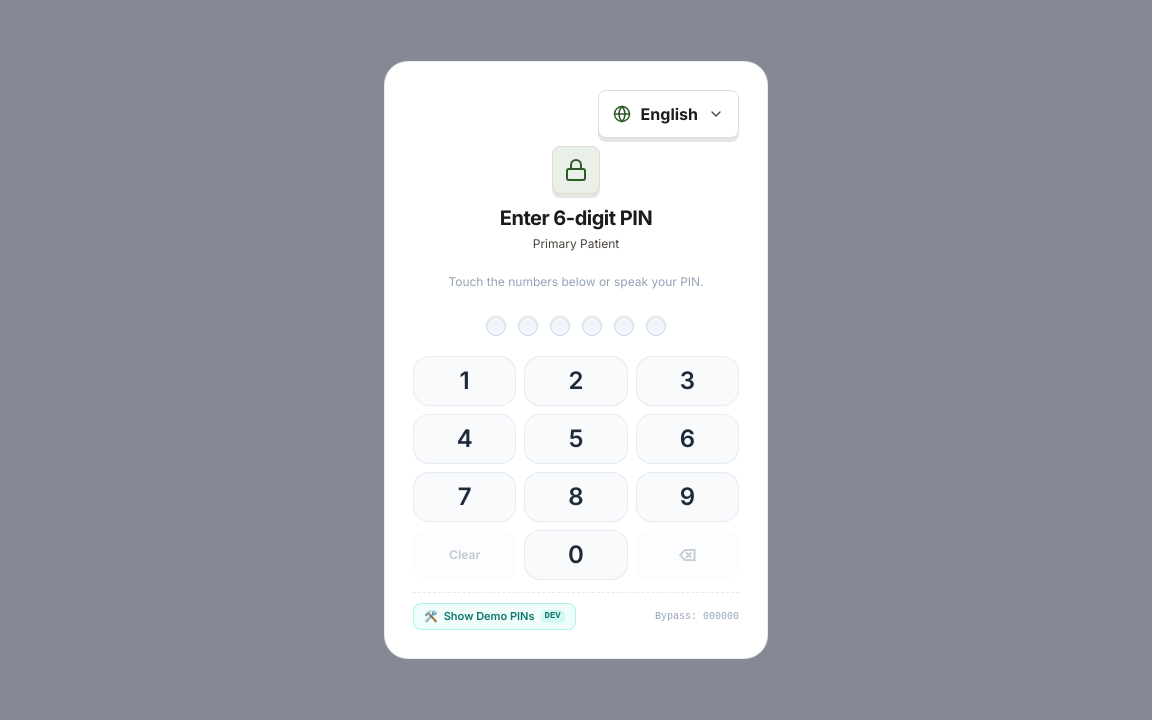
it: Task 7: PinAuthModal UI Component Tests › 4. Entering incorrect PIN shows gentle retry prompt without red error state
# Enter wrong PIN: 8, 8, 8, 8, 8, 8
Click the button "8".
click(576, 497)  # box 524,472 -> 628,522
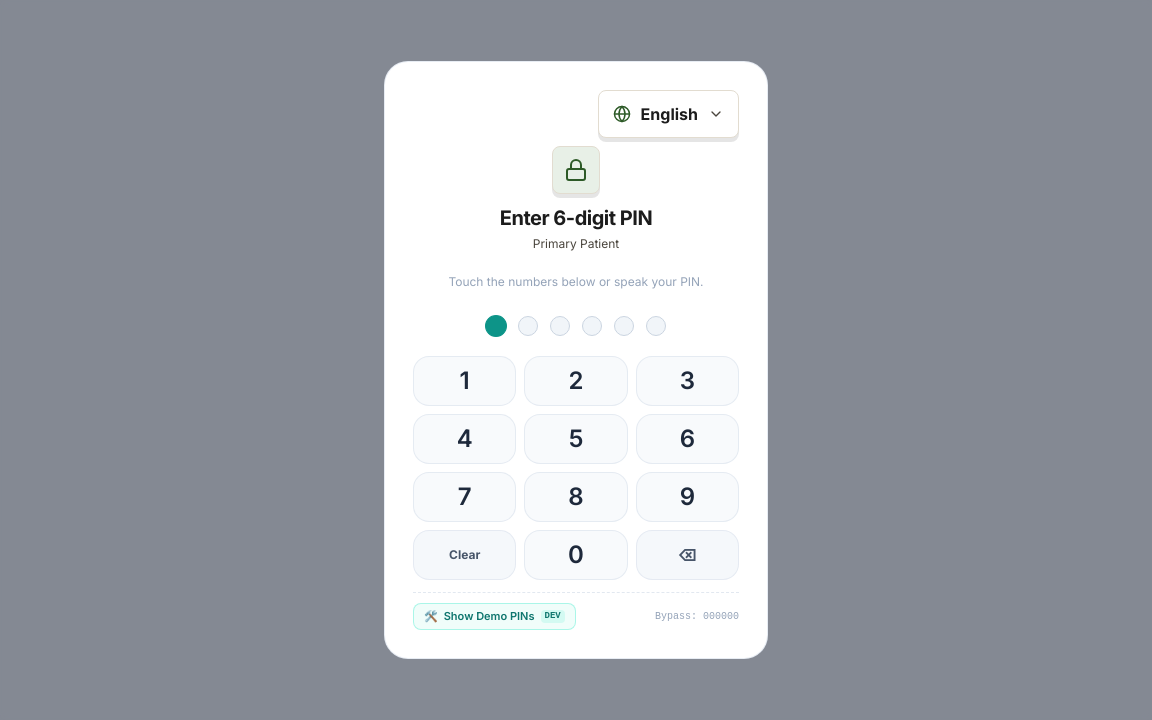
Click the button "8".
click(576, 497)  # box 524,472 -> 628,522
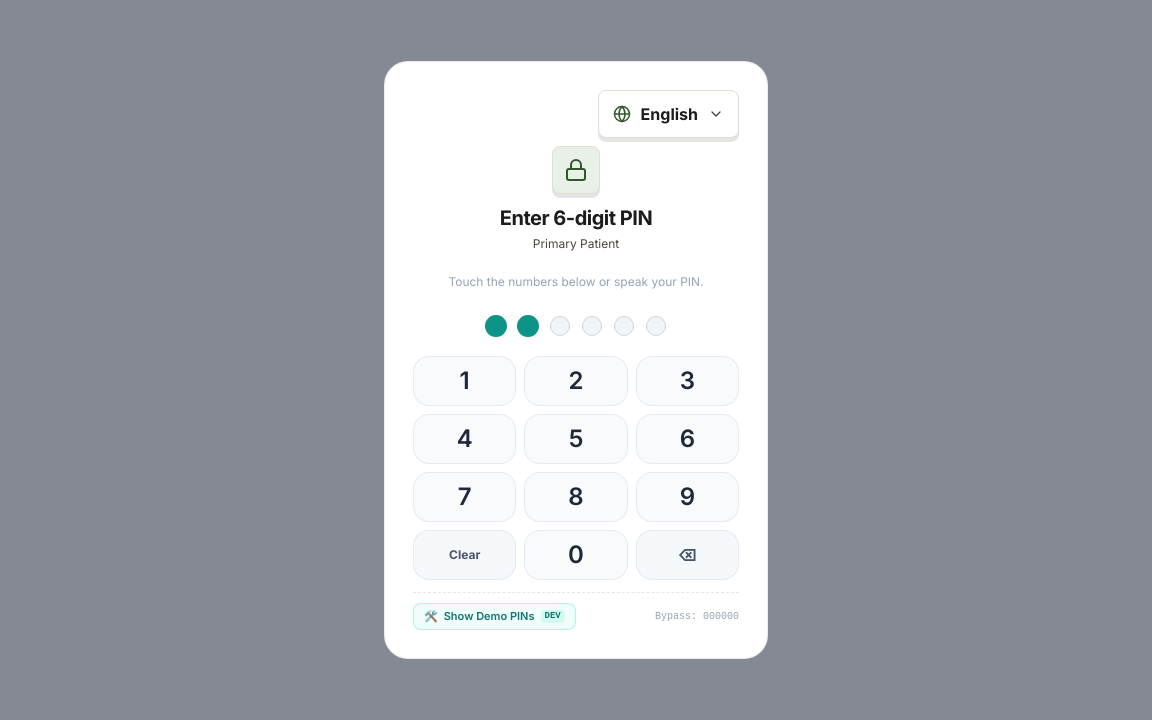
Click the button "8".
click(576, 497)  # box 524,472 -> 628,522
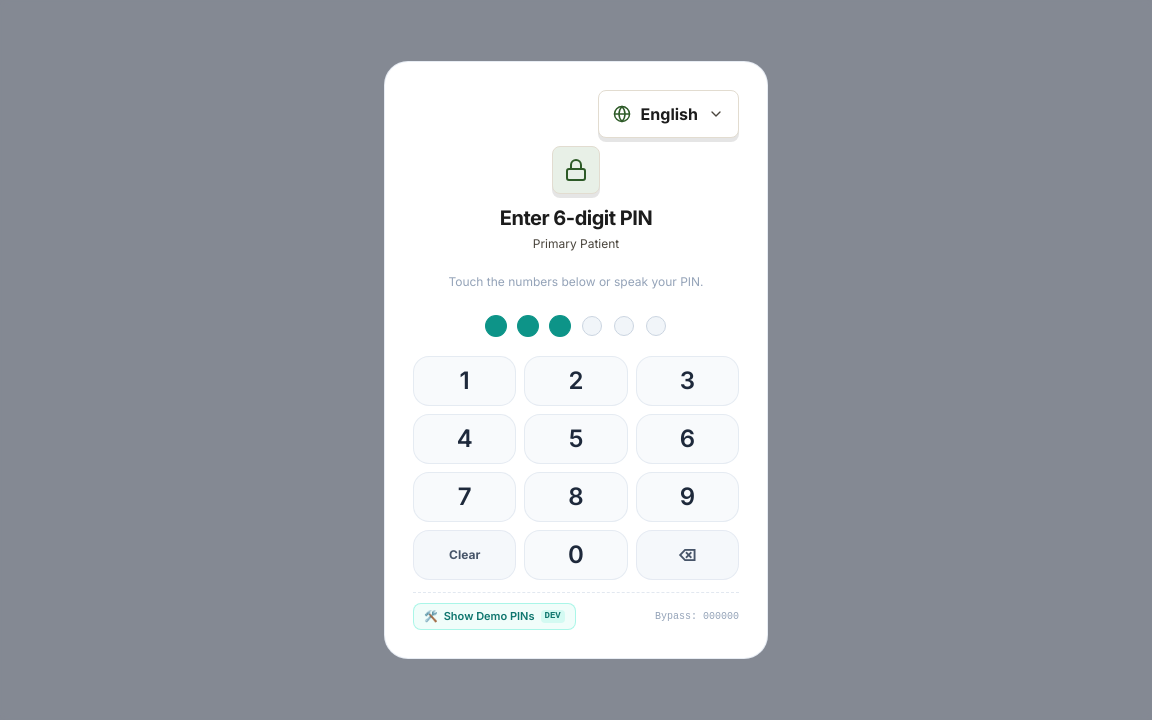
Click the button "8".
click(576, 497)  # box 524,472 -> 628,522
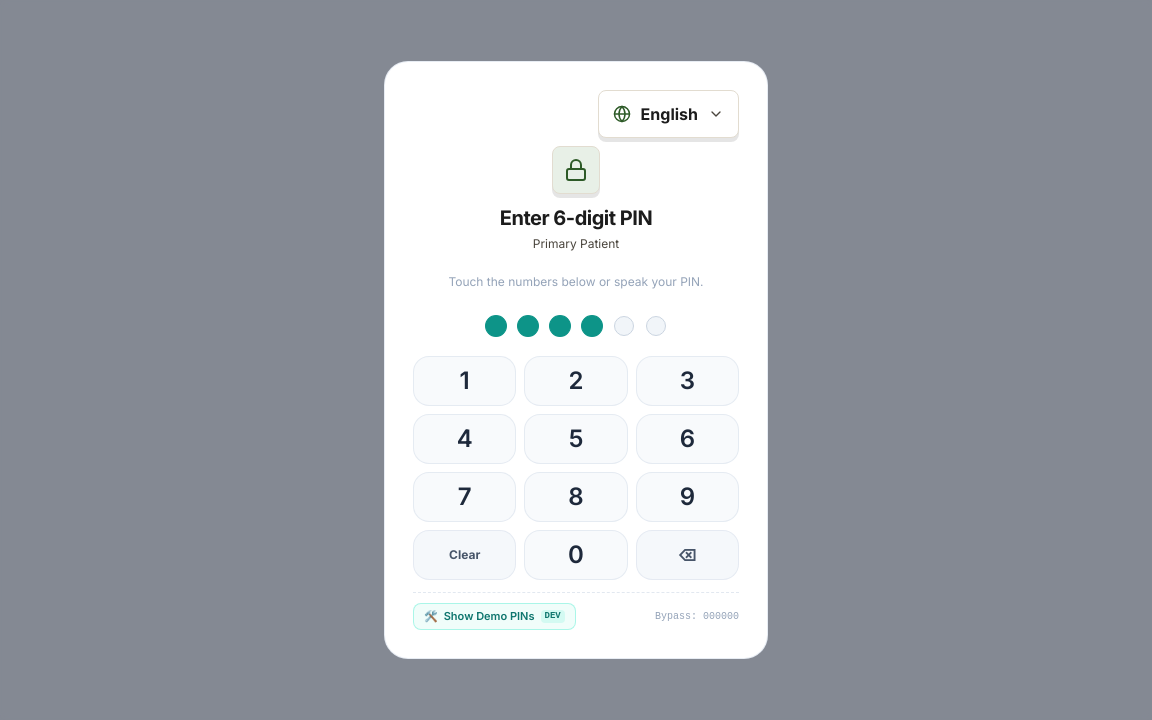
Click the button "8".
click(576, 497)  # box 524,472 -> 628,522
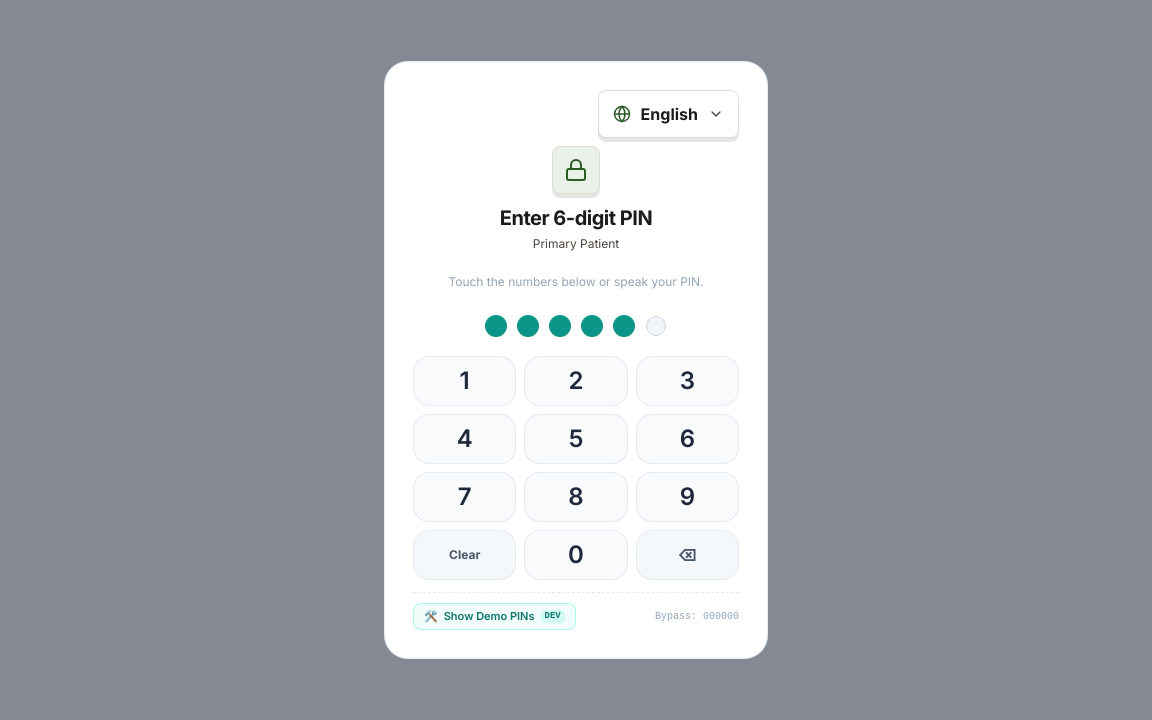
Click the button "8".
click(576, 497)  # box 524,472 -> 628,522
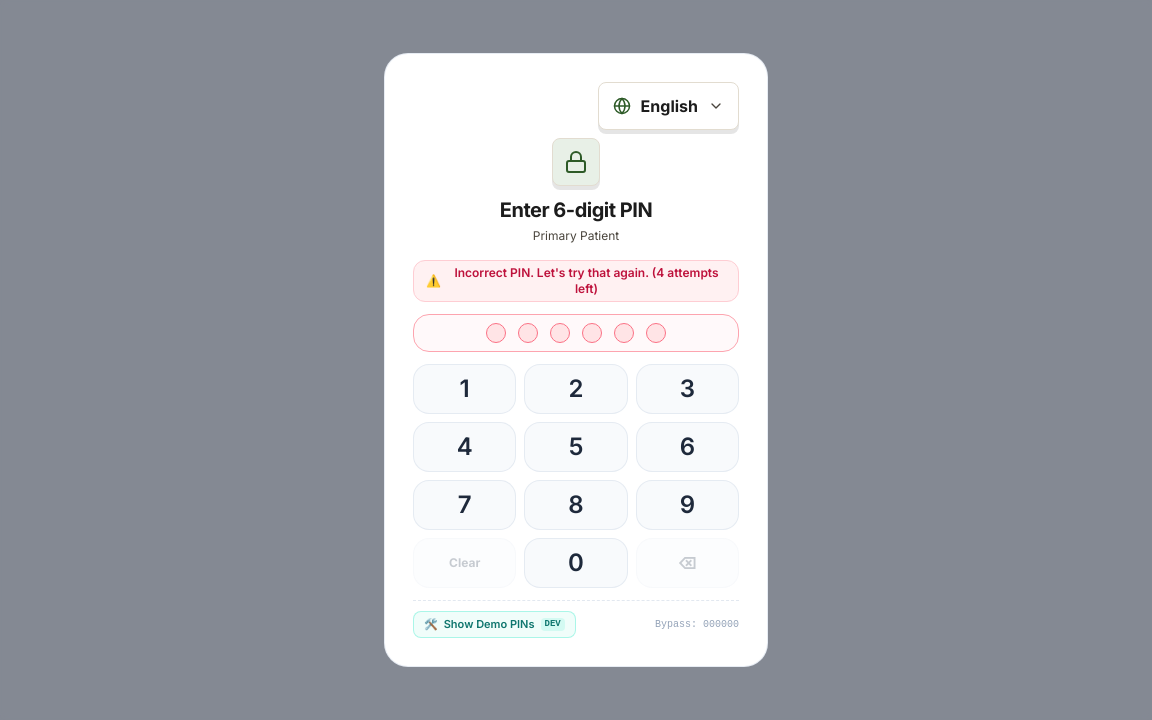
Now the text "Incorrect PIN. Let's try that again. (4 attempts left)" is shown, box 447,265 -> 726,297
